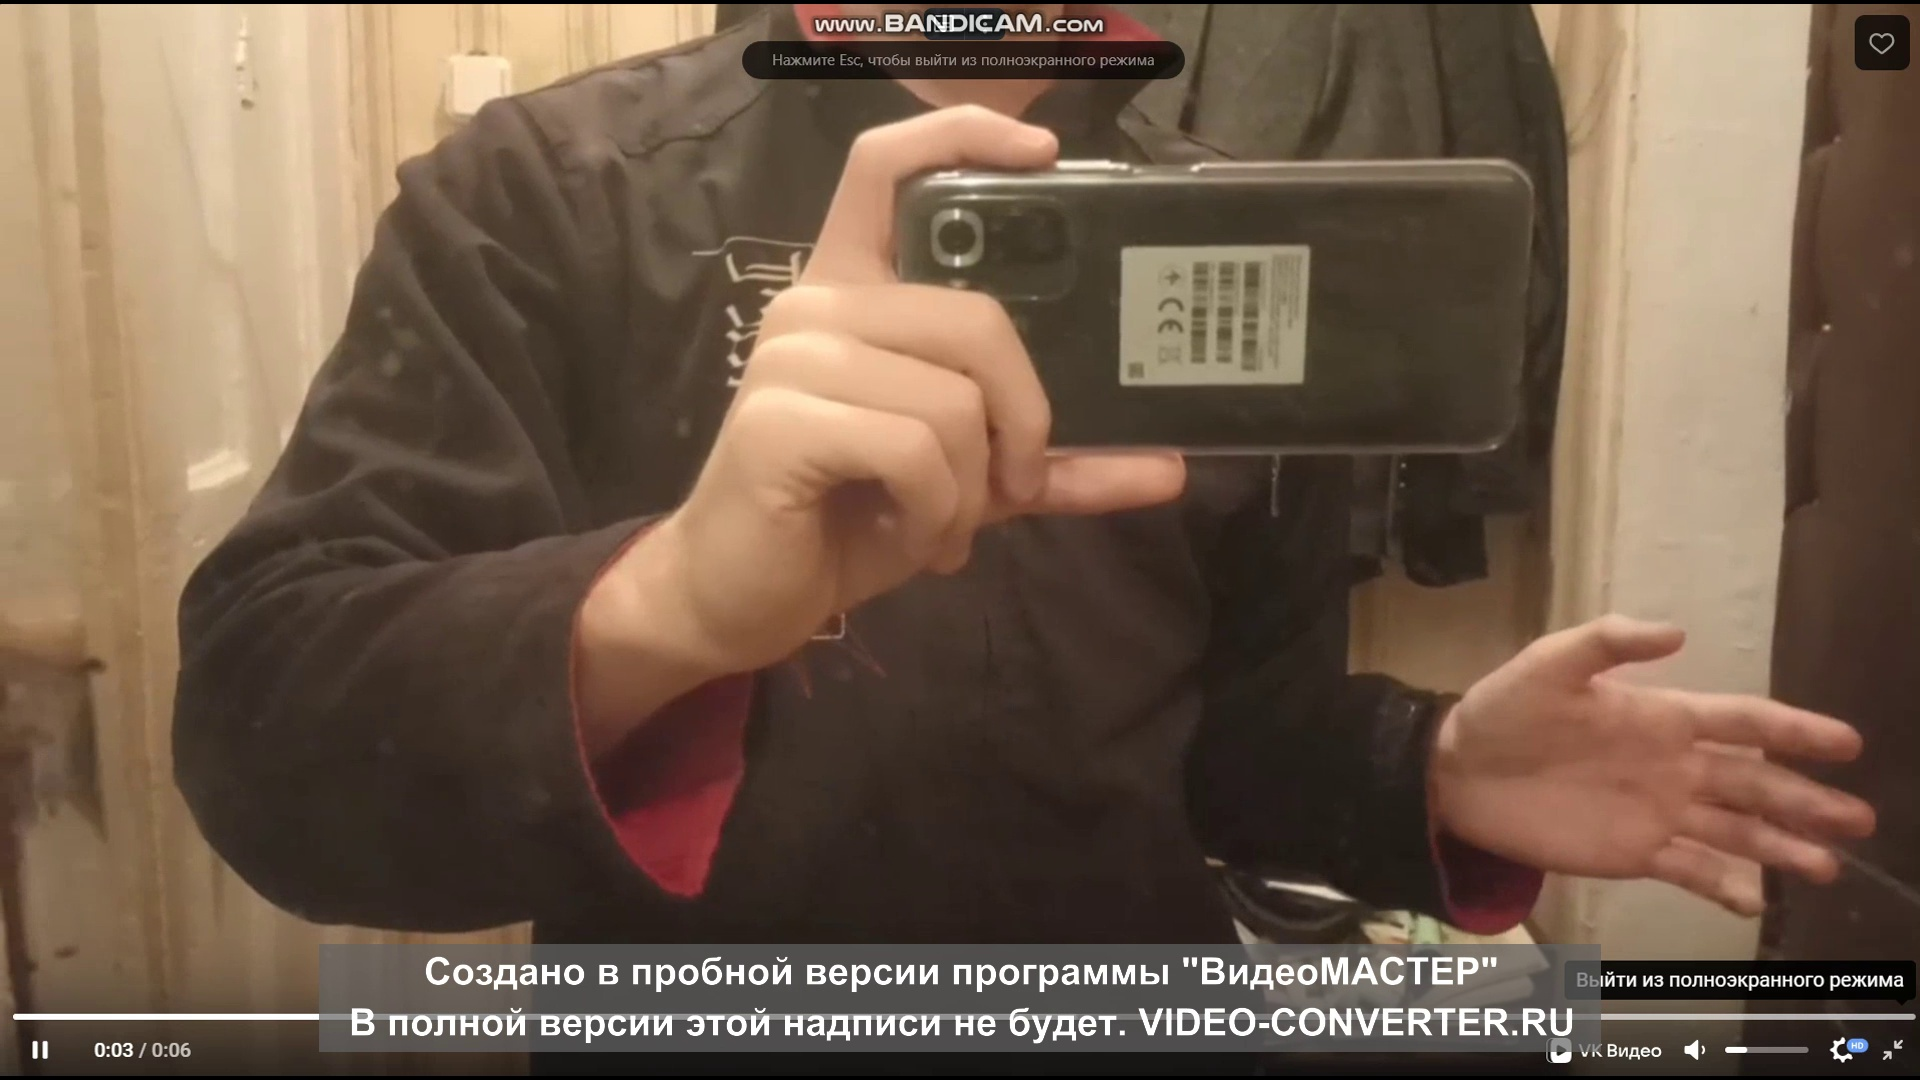Ладонь: (1455, 612, 1873, 918)
